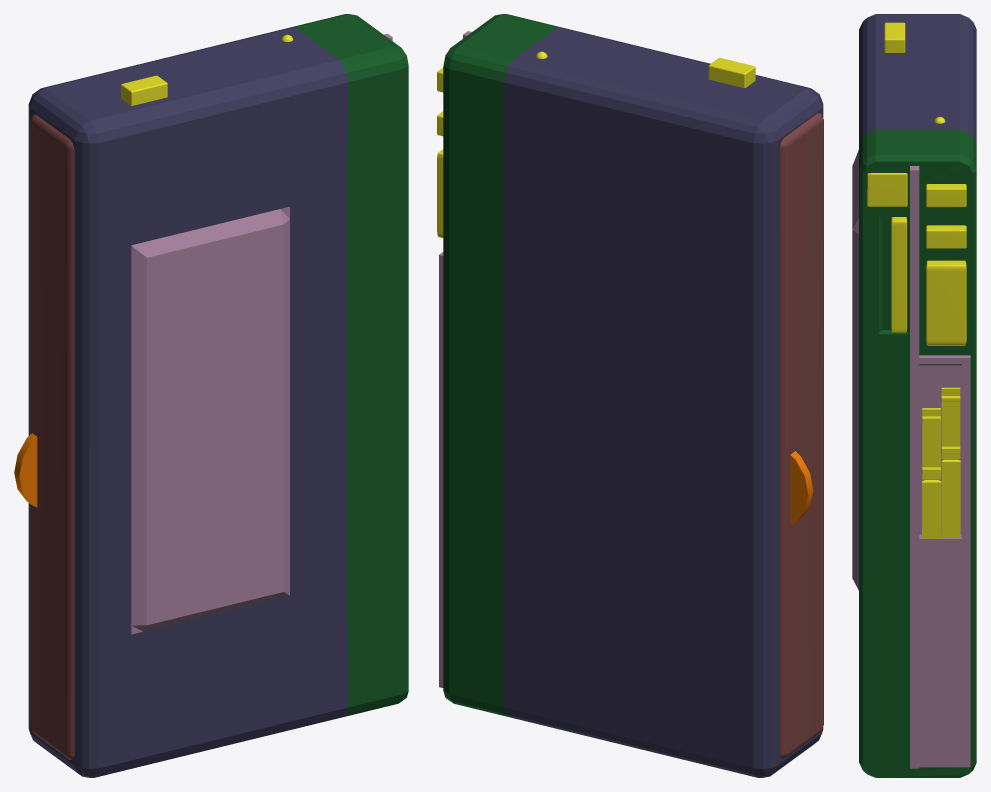
The model's file is retro_walkman.fbx.
3 renders of one model, left to right at view 1: azimuth 30°, elevation 25°; view 2: azimuth 150°, elevation 25°; view 3: azimuth 270°, elevation 25°, orthographic. The views are drawn at different scales.
Parts seen in each view (by area): view 1: pCube94, pCube95, pCylinder74, pCube101; view 2: pCube94, pCube95, pCube96, pCylinder74, pCube101; view 3: pCube94, pCube96, pCube99, pCube104 (×2), pCube103 (×2), pCube102, pCube100, pCube97, pCube98, pCube101.
Boxes of the visible parts, box(x1,y1,x2,y2) form: pCube94: box(28, 14, 408, 777); pCube95: box(30, 114, 74, 759); pCylinder74: box(14, 433, 37, 507); pCube101: box(121, 75, 167, 105); pCube94: box(443, 14, 823, 777); pCube95: box(779, 113, 823, 758); pCube96: box(439, 31, 471, 687); pCylinder74: box(790, 451, 813, 525); pCube101: box(708, 57, 755, 87); pCube94: box(852, 14, 976, 777); pCube96: box(910, 166, 970, 768); pCube99: box(926, 260, 966, 345); pCube104 (×2): box(922, 387, 960, 479); pCube103 (×2): box(922, 459, 960, 538); pCube102: box(891, 217, 907, 332); pCube100: box(867, 173, 907, 206); pCube97: box(926, 184, 966, 207); pCube98: box(926, 225, 966, 248); pCube101: box(884, 22, 905, 52).
Bounding box in the file's own units: 11.17 × 19.86 × 3.53.
